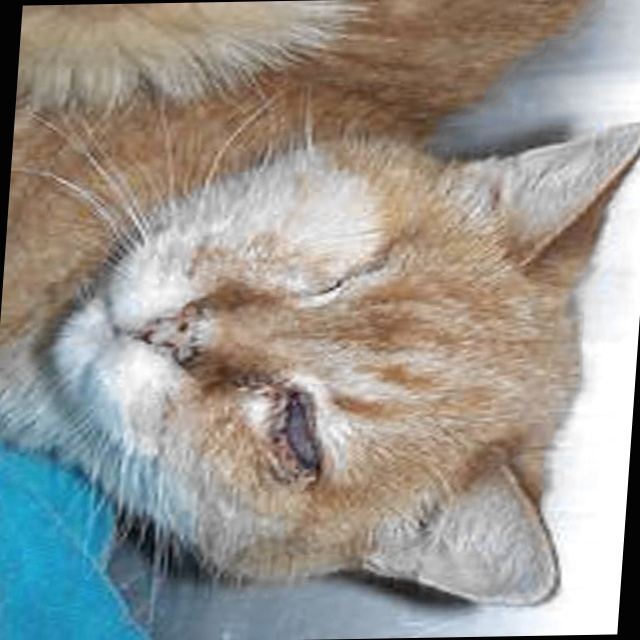eye_infection: (266, 399, 317, 480)
